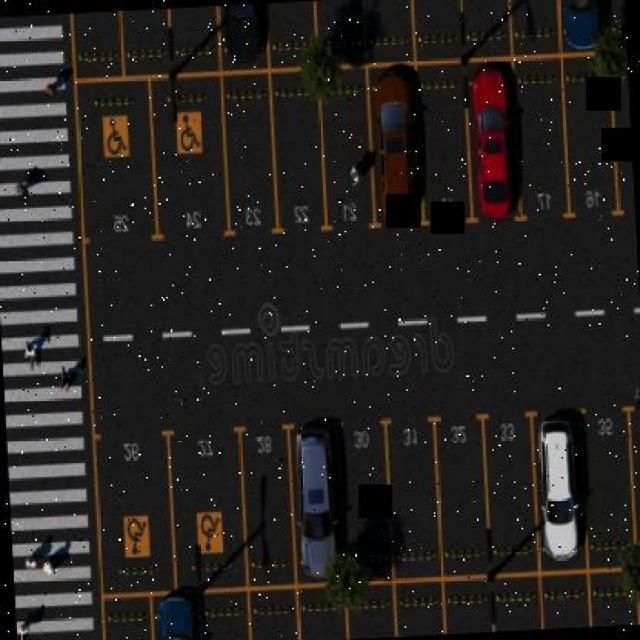car: (532, 404, 592, 564), (464, 53, 518, 227), (366, 68, 422, 235), (286, 414, 339, 588), (218, 2, 264, 76), (561, 0, 609, 58), (150, 587, 198, 640)
free: (78, 75, 154, 254), (96, 425, 170, 590), (150, 84, 224, 248), (169, 434, 237, 584), (478, 412, 540, 562), (222, 66, 278, 232), (416, 55, 472, 220), (433, 412, 490, 566), (336, 415, 396, 560), (513, 58, 567, 214), (316, 83, 372, 229), (384, 412, 441, 554), (562, 56, 615, 204), (234, 426, 288, 568), (270, 86, 324, 222), (584, 410, 630, 553), (119, 8, 170, 78), (314, 0, 366, 68), (70, 11, 118, 84), (268, 0, 317, 65), (362, 0, 409, 66), (340, 582, 394, 638), (613, 79, 635, 212), (488, 580, 542, 632), (409, 0, 456, 58), (509, 0, 556, 58), (590, 569, 636, 626), (460, 0, 507, 55), (173, 6, 214, 68), (250, 586, 296, 640), (394, 586, 442, 637), (296, 591, 344, 640), (441, 584, 488, 634), (103, 598, 149, 640), (540, 586, 586, 628), (204, 600, 244, 640), (631, 410, 640, 550)
